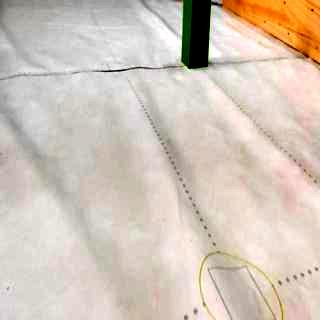greenbox: (180, 0, 212, 69)
